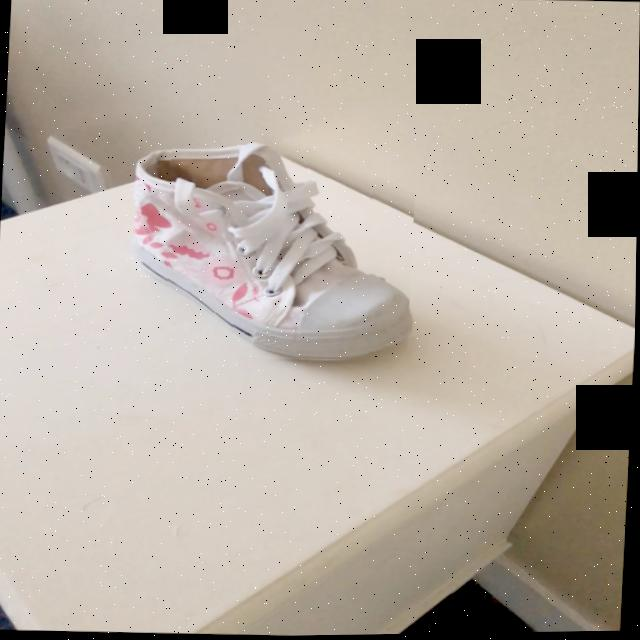shoe: (136, 146, 409, 361)
